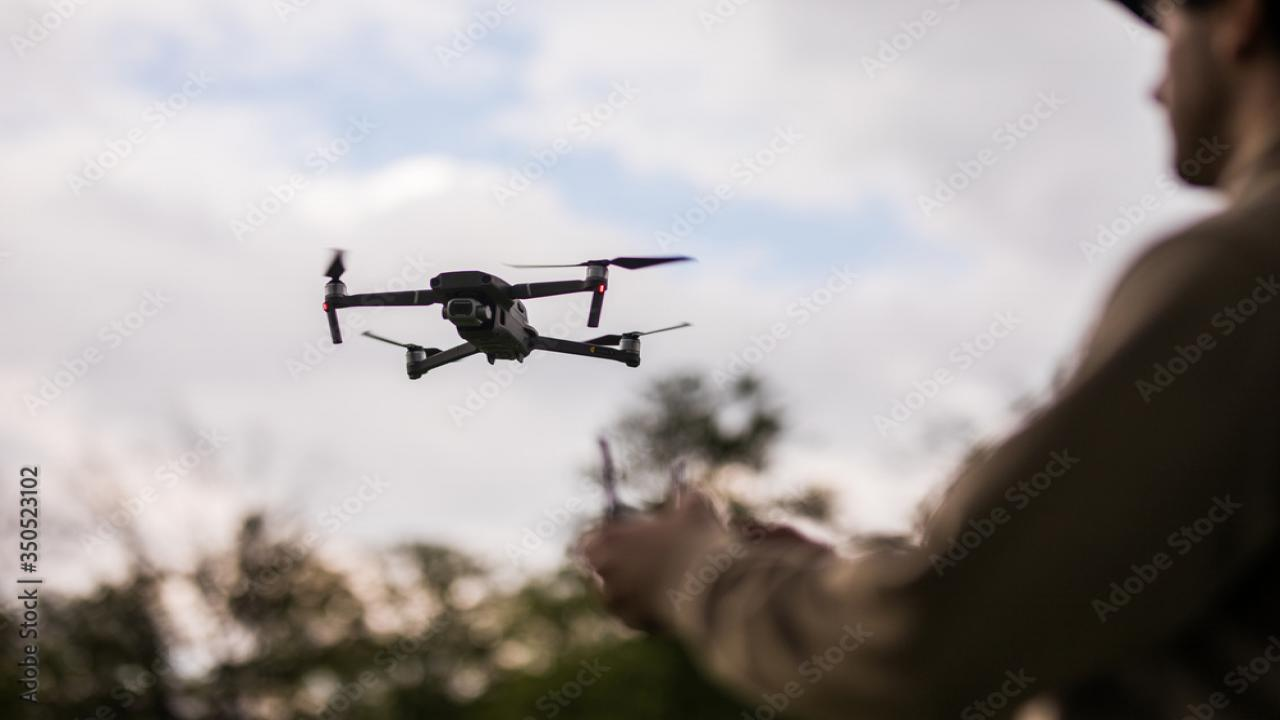Drone: (302, 233, 724, 398)
